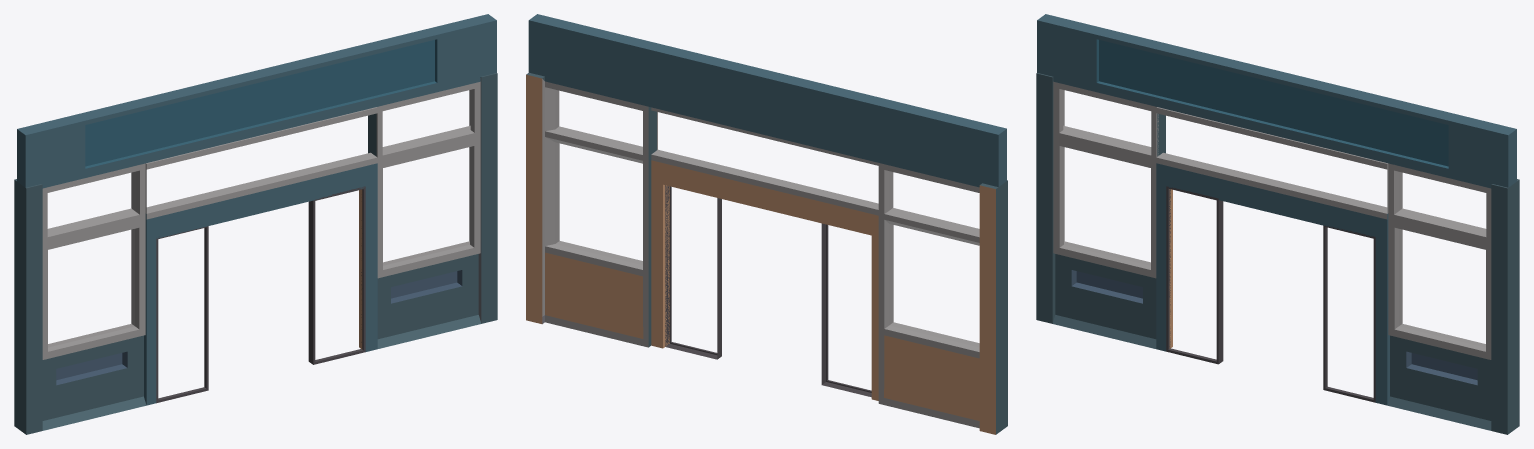
File: Ka_mur_devanture_V2.fbx
3 views of the same model, side by side, from view 1: azimuth 30°, elevation 25°; view 2: azimuth 150°, elevation 25°; view 3: azimuth 330°, elevation 25° (orthographic).
Visible parts, largest first — view 1: Box012; view 2: Box012; view 3: Box012.
Part boxes in pixels (box(x1,y1,x2,y2)): Box012: box(14, 14, 497, 434); Box012: box(526, 14, 1007, 434); Box012: box(1036, 14, 1519, 434).
Bounding box in the file's own units: 321 × 195 × 14.24.
